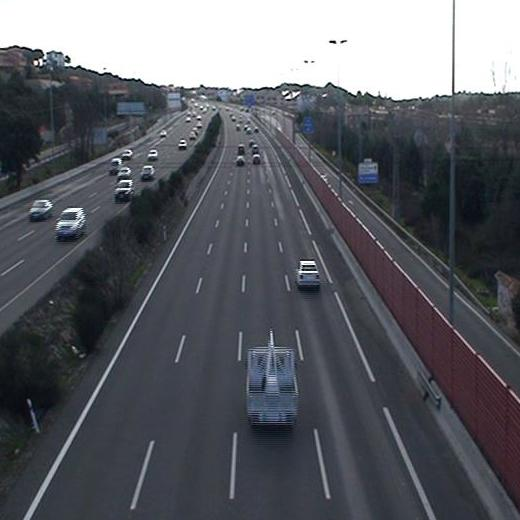car: (292, 257, 323, 290), (250, 152, 263, 166), (234, 153, 246, 166)
small-truck: (240, 327, 303, 435)
